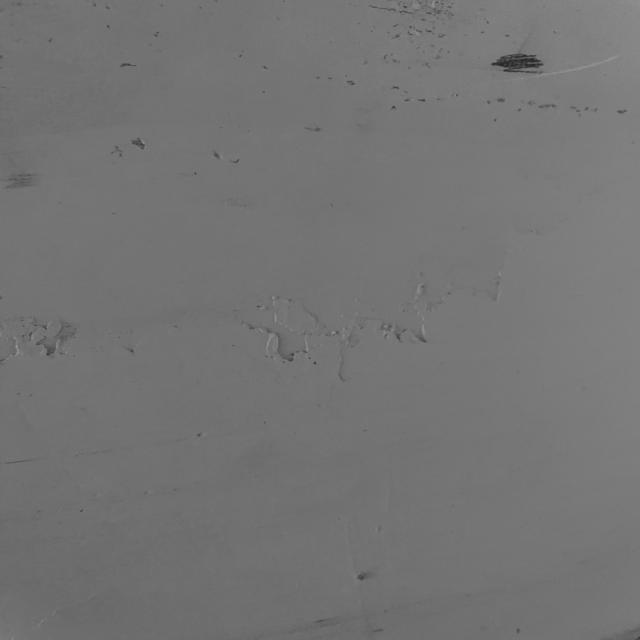rough and patchy surface: (217, 260, 573, 419), (0, 291, 143, 400)
stain marks: (331, 1, 640, 144), (277, 553, 439, 640), (74, 0, 166, 83), (110, 120, 240, 173), (0, 159, 42, 193), (213, 191, 261, 213), (287, 116, 329, 141), (238, 48, 276, 74)
